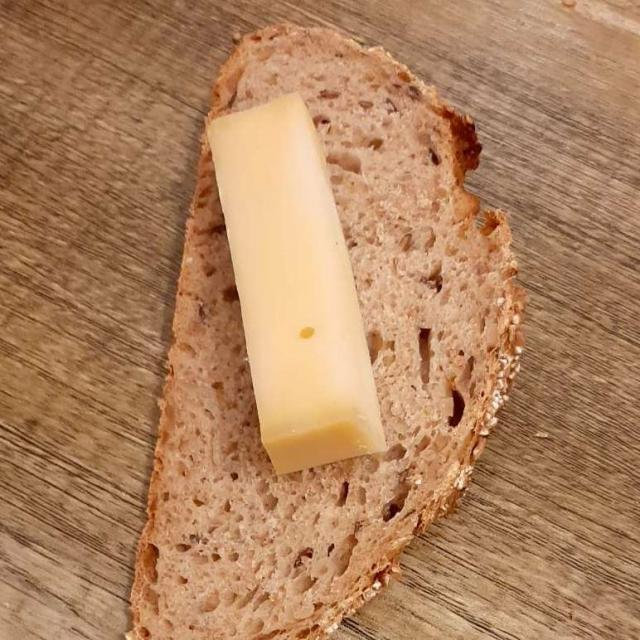bread: (174, 35, 517, 611)
cheese: (202, 92, 387, 473)
